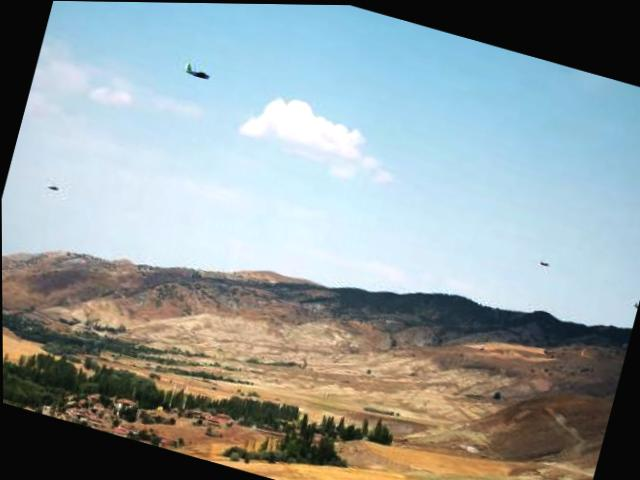uav: (180, 57, 213, 84), (535, 255, 552, 268), (628, 296, 639, 309)
